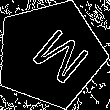M_SW: (15, 20, 85, 88)
